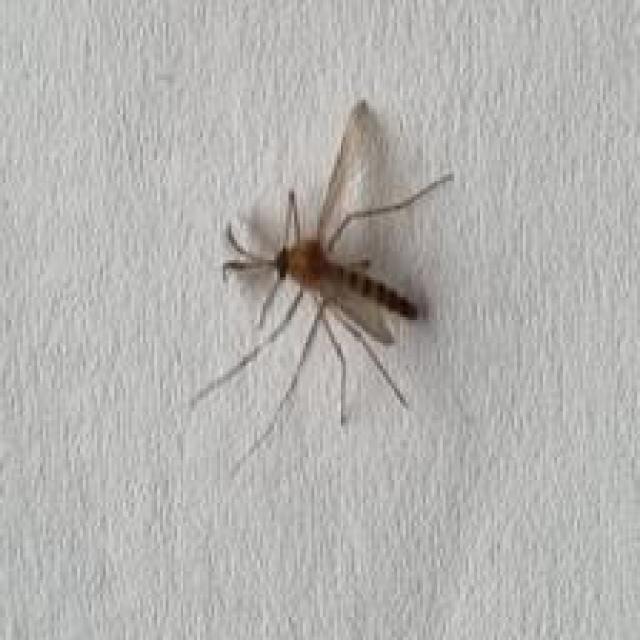Culex: (186, 97, 454, 477)
